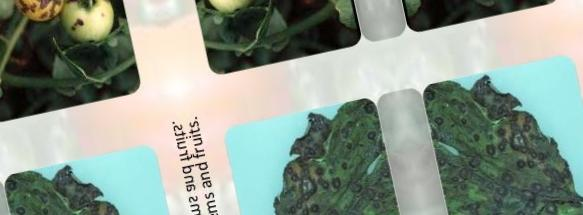Tomato leaf bacterial spot: (230, 96, 420, 215)
